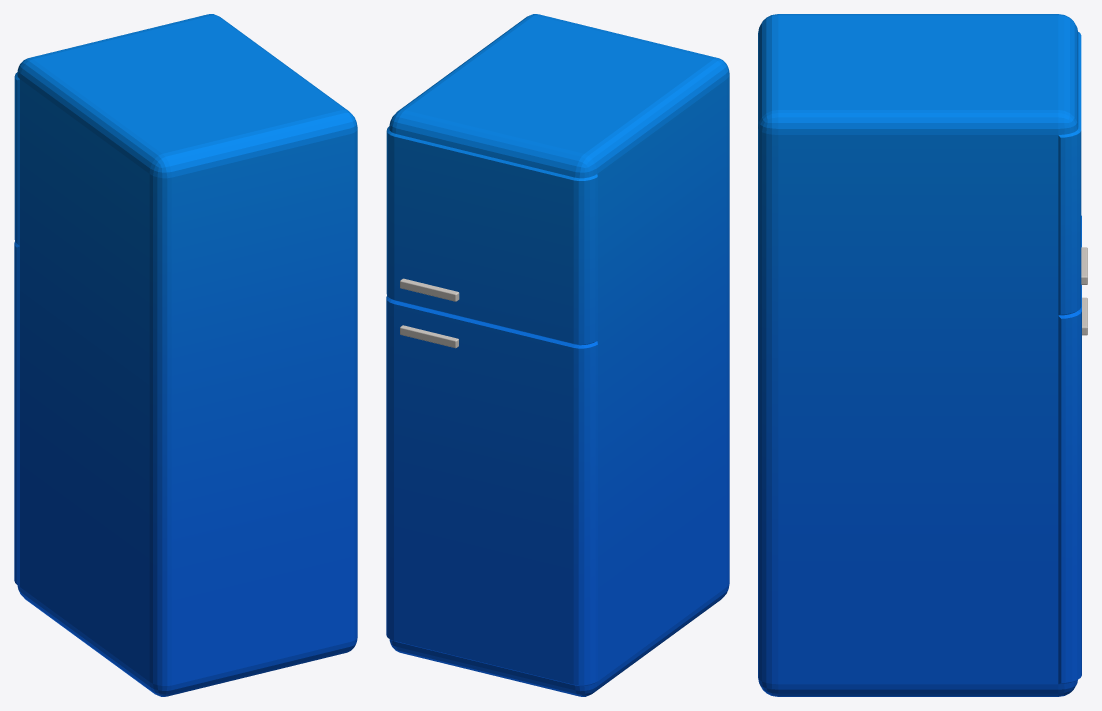
The model's file is Fridge.gltf.
The picture shows the model from 3 angles, left to right: view 1: azimuth 30°, elevation 25°; view 2: azimuth 150°, elevation 25°; view 3: azimuth 270°, elevation 25°; orthographic projection. The views are drawn at different scales.
Parts seen in each view (by area): view 1: Fridge; view 2: Fridge; view 3: Fridge.
Part boxes in pixels (x1,y1,x2,y2): Fridge: (14,14,357,696); Fridge: (386,14,729,696); Fridge: (758,14,1087,696).
Bounding box in the file's own units: 0.8158 × 2.02 × 1.03.
Materials: 1 (1 with a texture image).
